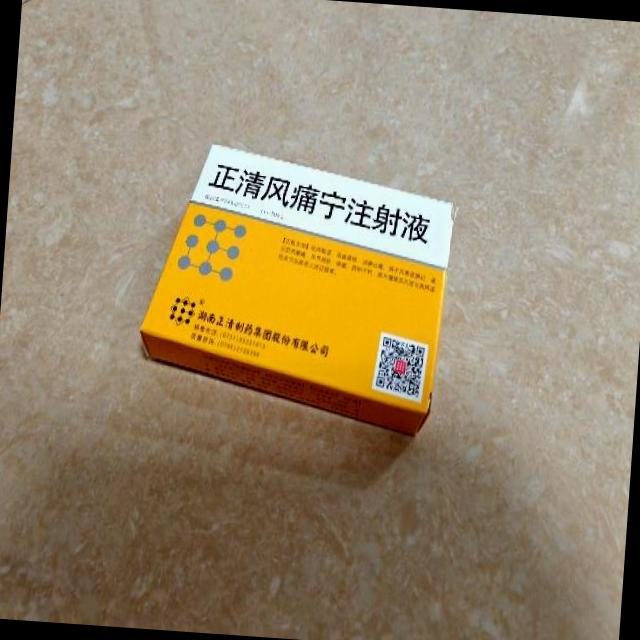box: (132, 138, 458, 439)
